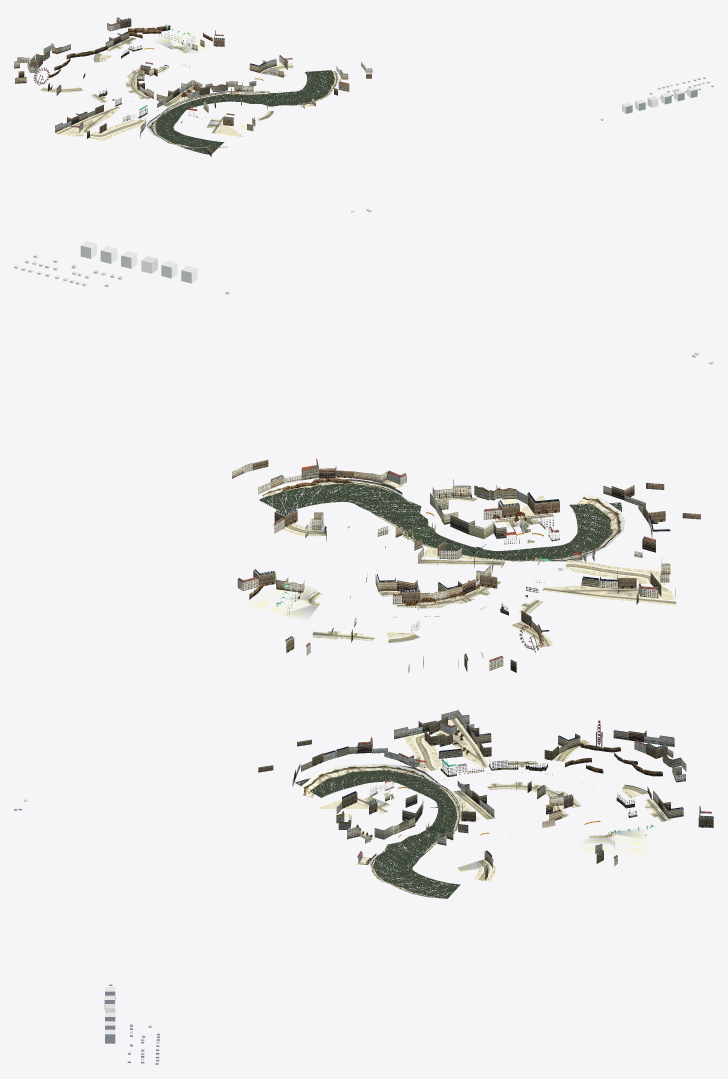
Rendered from track-EU_C1_V2_env.glb.
The picture shows the model from 3 angles, top to bottom: view 1: azimuth 30°, elevation 25°; view 2: azimuth 150°, elevation 25°; view 3: azimuth 270°, elevation 25°; orthographic projection. The views are drawn at different scales.
Visible parts, largest first — view 1: EU_C1_V2_env; view 2: EU_C1_V2_env; view 3: EU_C1_V2_env.
Part boxes in pixels (x1=…): EU_C1_V2_env: x1=14, y1=17, x2=713, y2=212; EU_C1_V2_env: x1=14, y1=241, x2=713, y2=672; EU_C1_V2_env: x1=14, y1=710, x2=713, y2=1064.
Bounding box in the file's own units: 4149 × 144 × 3469.
Materials: 41 (39 with a texture image).
